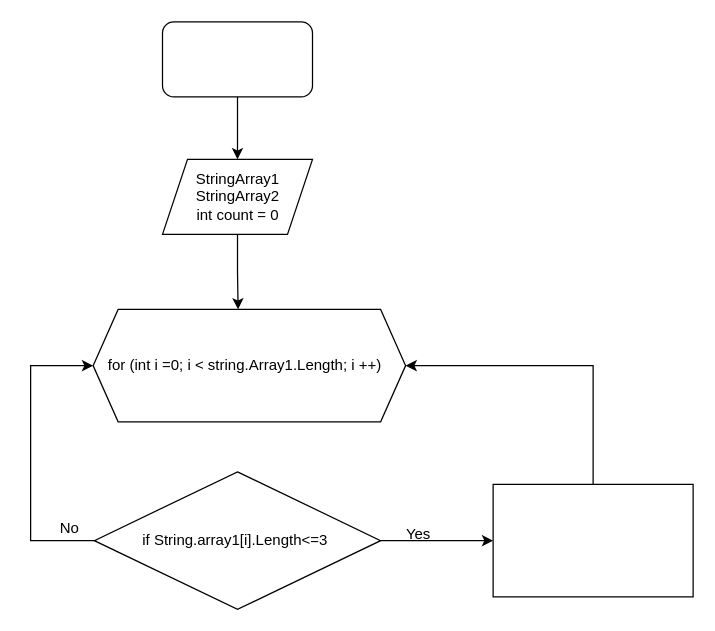
This 715x631 diagram has some shape labels left out. Here are the shapes that lost their labels. From the top down, the box of each, then its label:
(161, 21, 312, 97): SecondArray
(492, 483, 693, 597): StringArray2[count]= StringArray1[i] count ++
